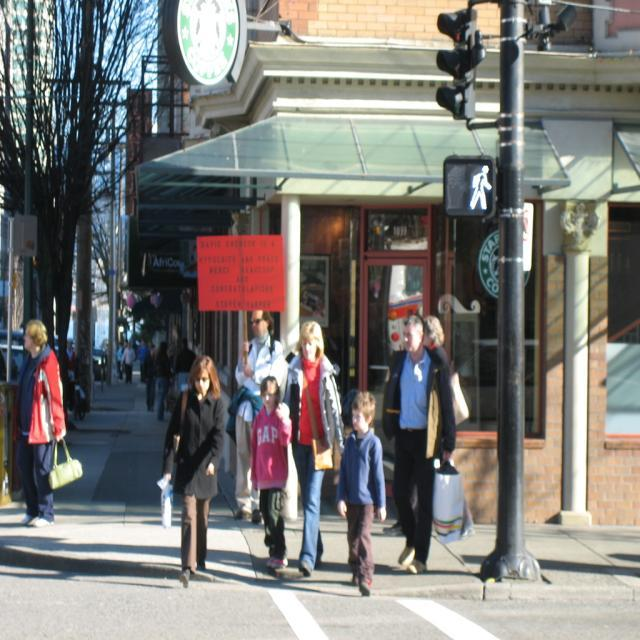traffic light: (436, 10, 479, 122)
